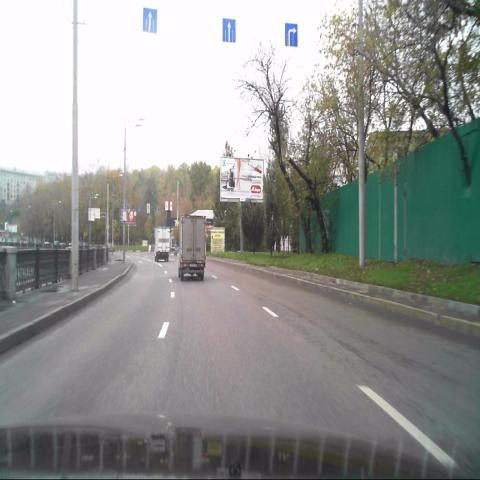5_15_2: (221, 16, 236, 42), (142, 8, 157, 33), (284, 22, 298, 47)
